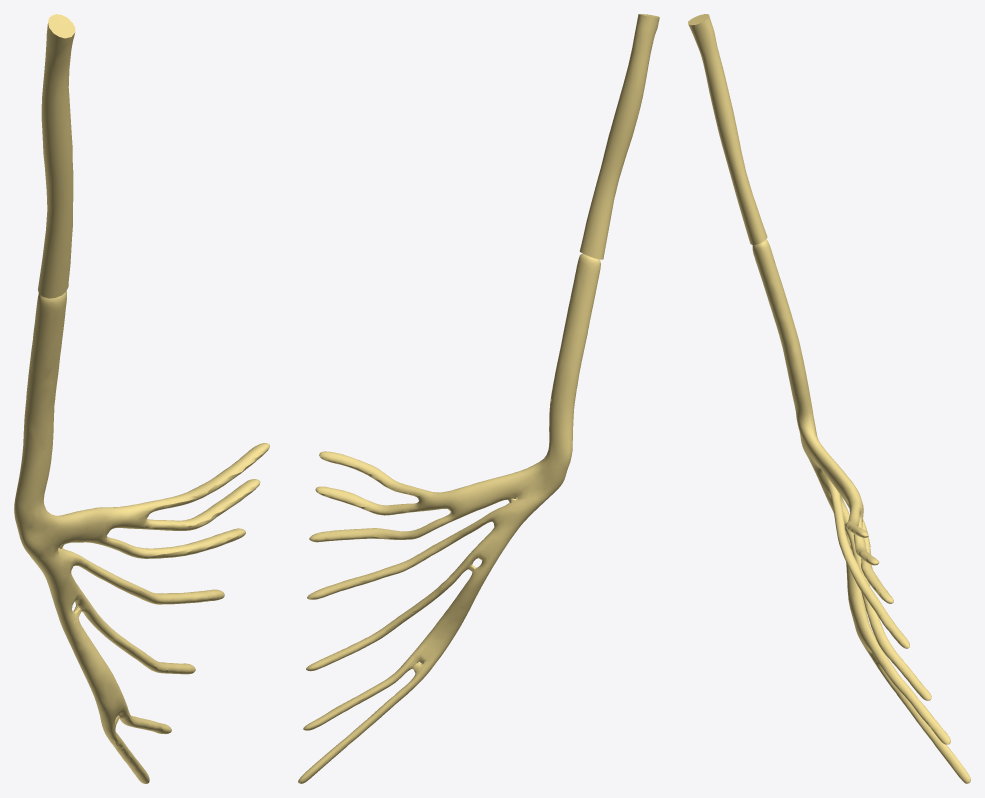
File: fma73636_cx326.glb
The picture shows the model from 3 angles, left to right: view 1: azimuth 30°, elevation 25°; view 2: azimuth 150°, elevation 25°; view 3: azimuth 270°, elevation 25°; orthographic projection. The views are drawn at different scales.
Visible parts, largest first — view 1: FMA73636_CX326; view 2: FMA73636_CX326; view 3: FMA73636_CX326.
Boxes of the visible parts, left/top/right/bottom form: FMA73636_CX326: left=14, top=14, right=269, bottom=783; FMA73636_CX326: left=298, top=14, right=659, bottom=783; FMA73636_CX326: left=688, top=14, right=970, bottom=783.
Bounding box in the file's own units: 0.0182 × 0.0499 × 0.019.
